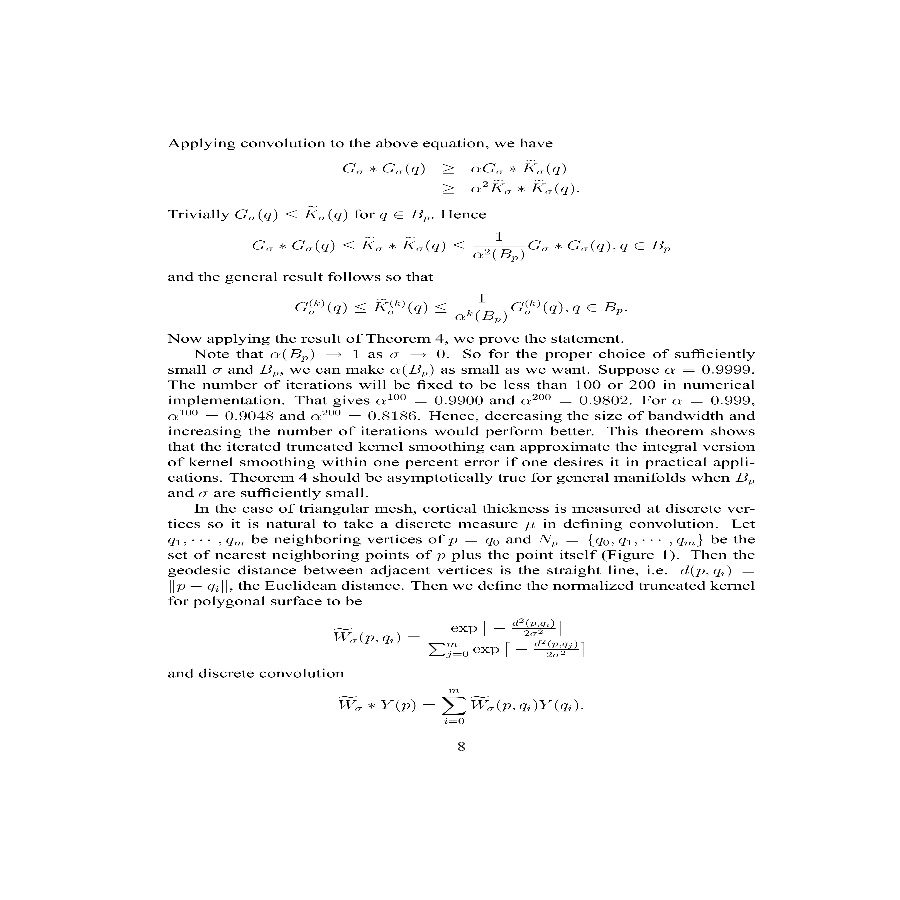eq: (329, 686, 587, 752), (247, 230, 678, 269), (316, 617, 592, 663), (283, 290, 633, 325), (332, 156, 587, 202)
